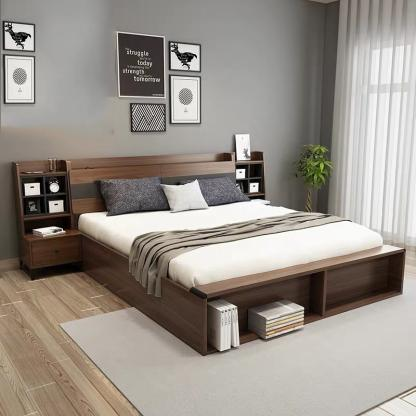bed: (72, 159, 414, 360)
table: (22, 232, 81, 281)
